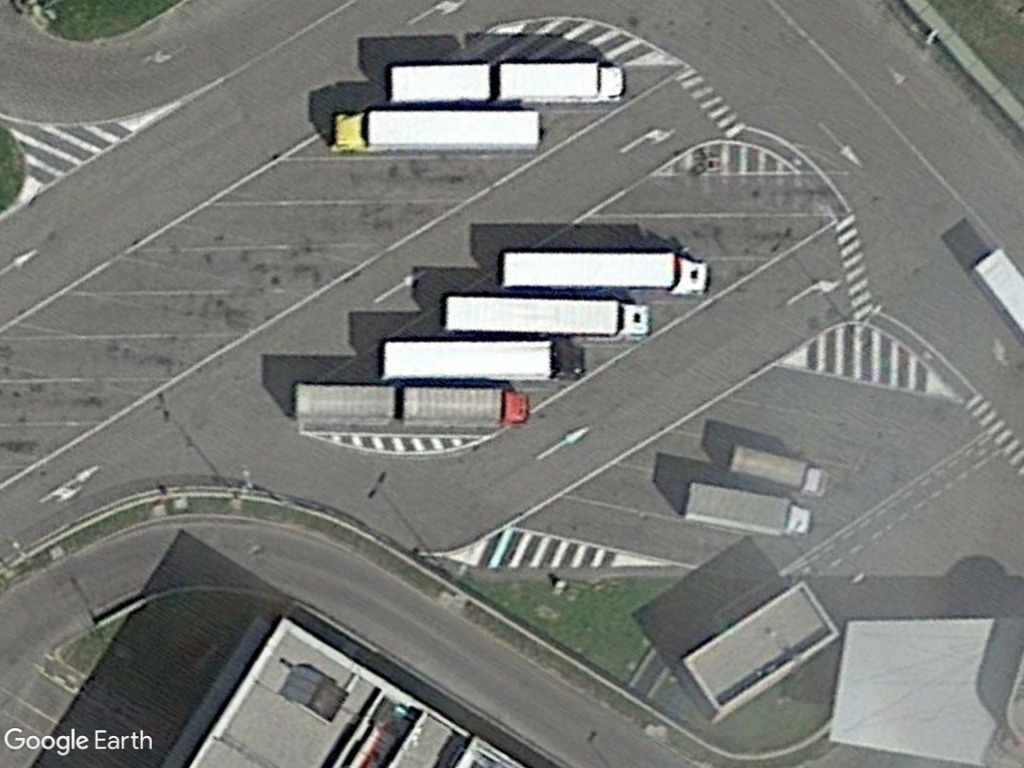longvehicle: (383, 59, 626, 109), (289, 380, 532, 430), (497, 247, 712, 299), (329, 108, 547, 157), (436, 292, 656, 340), (377, 338, 590, 385)
truck: (681, 478, 814, 538), (493, 58, 628, 107), (721, 441, 835, 499), (401, 384, 533, 428)
